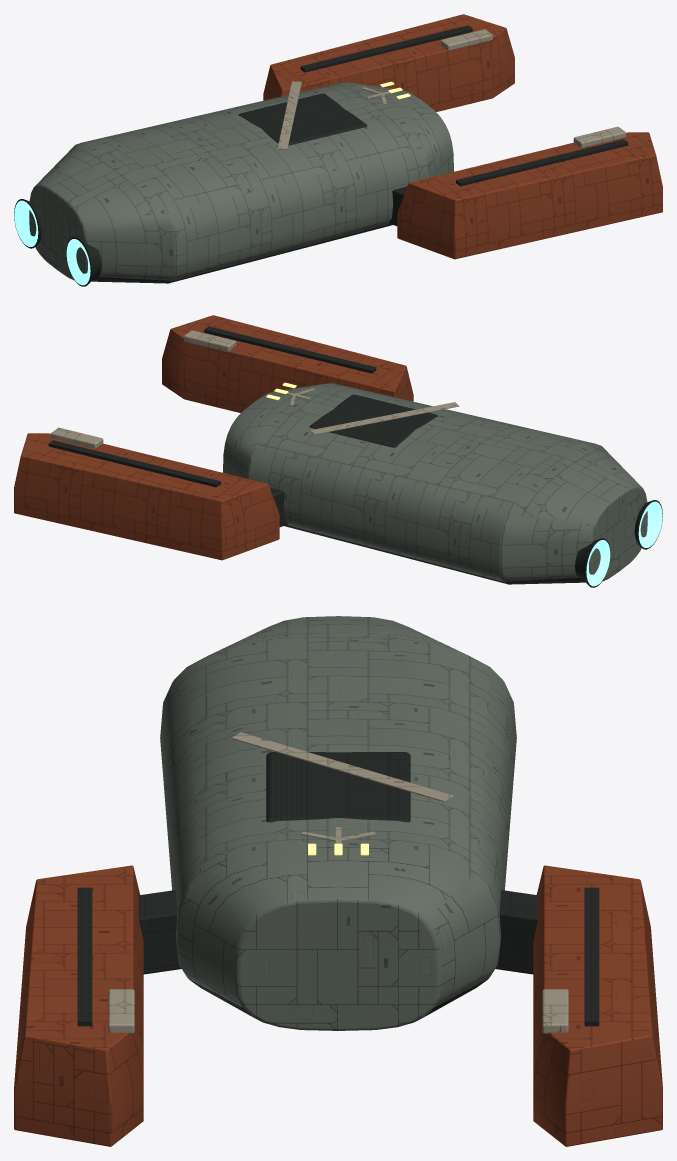
File: towline_mara.glb
3 renders of one model, top to bottom at view 1: azimuth 30°, elevation 25°; view 2: azimuth 150°, elevation 25°; view 3: azimuth 270°, elevation 25°, orthographic. The views are drawn at different scales.
Parts seen in each view (by area): view 1: LOD0_Hull, LOD0_Armor, LOD0_MechanicalDark, LOD0_HOOK_DRIVE_CORE, LOD0_Livery, LOD0_MOTION_TOWLINE_JAW_PORT_Livery, LOD0_MOTION_TOWLINE_JAW_STARBOARD_Livery; view 2: LOD0_Hull, LOD0_Armor, LOD0_MechanicalDark, LOD0_HOOK_DRIVE_CORE, LOD0_Livery, LOD0_MOTION_TOWLINE_JAW_STARBOARD_Livery, LOD0_MOTION_TOWLINE_JAW_PORT_Livery; view 3: LOD0_Hull, LOD0_Armor, LOD0_MechanicalDark, LOD0_Livery, LOD0_MOTION_TOWLINE_JAW_PORT_Livery, LOD0_MOTION_TOWLINE_JAW_STARBOARD_Livery.
Part boxes in pixels (left/top/right/bottom): LOD0_Hull: left=29, top=82, right=453, bottom=281; LOD0_Armor: left=263, top=14, right=662, bottom=259; LOD0_MechanicalDark: left=14, top=25, right=628, bottom=286; LOD0_HOOK_DRIVE_CORE: left=14, top=200, right=90, bottom=285; LOD0_Livery: left=277, top=81, right=390, bottom=149; LOD0_MOTION_TOWLINE_JAW_PORT_Livery: left=440, top=29, right=492, bottom=50; LOD0_MOTION_TOWLINE_JAW_STARBOARD_Livery: left=573, top=126, right=625, bottom=147; LOD0_Hull: left=223, top=383, right=647, bottom=582; LOD0_Armor: left=14, top=315, right=413, bottom=560; LOD0_MechanicalDark: left=48, top=326, right=662, bottom=587; LOD0_HOOK_DRIVE_CORE: left=586, top=501, right=662, bottom=586; LOD0_Livery: left=286, top=388, right=459, bottom=434; LOD0_MOTION_TOWLINE_JAW_STARBOARD_Livery: left=184, top=330, right=236, bottom=351; LOD0_MOTION_TOWLINE_JAW_PORT_Livery: left=51, top=427, right=103, bottom=448; LOD0_Hull: left=160, top=616, right=516, bottom=1030; LOD0_Armor: left=14, top=865, right=662, bottom=1146; LOD0_MechanicalDark: left=77, top=752, right=599, bottom=1026; LOD0_Livery: left=231, top=732, right=453, bottom=843; LOD0_MOTION_TOWLINE_JAW_PORT_Livery: left=542, top=989, right=568, bottom=1033; LOD0_MOTION_TOWLINE_JAW_STARBOARD_Livery: left=108, top=989, right=134, bottom=1033.
Size of what is drawn, in the model's own units: 24.71 by 4.59 by 16.
Materials: 6 (4 with a texture image).
